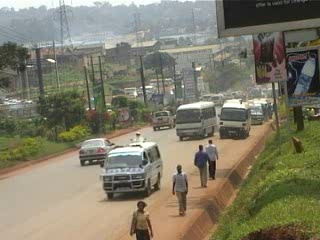Car: (76, 136, 117, 165), (151, 106, 176, 131)
